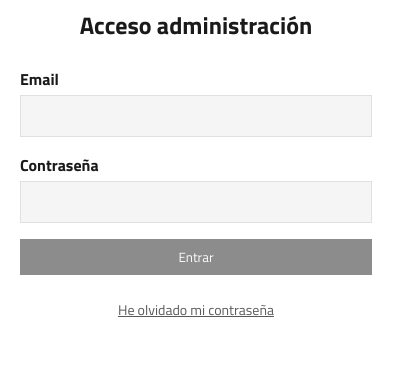
Test: AdminLogin › muestra el estado de éxito tras iniciar sesión
Type "admin@example.com" into the field labelled "Email" at {"x": 196, "y": 116}, box [20, 95, 372, 137]
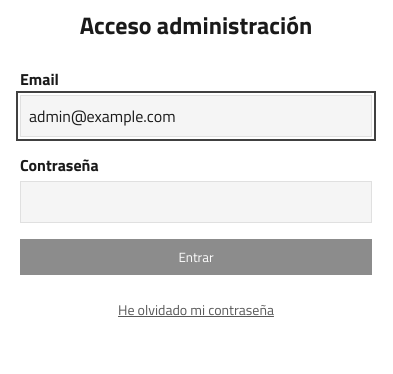
Type "pass1234" into the password field labelled "Contraseña" at {"x": 196, "y": 202}, box [20, 181, 372, 223]
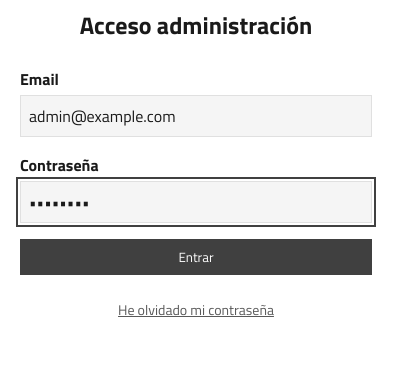
Click the button "Entrar" at {"x": 196, "y": 257}, box [20, 239, 372, 275]
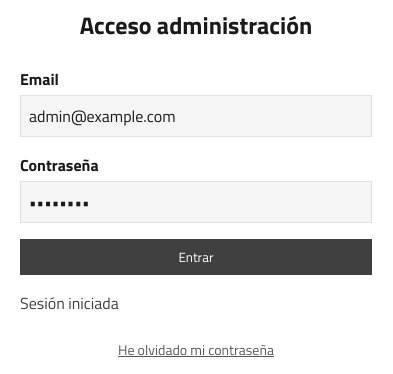
Check: the text "Sesión iniciada" is shown, box [20, 291, 119, 315]
